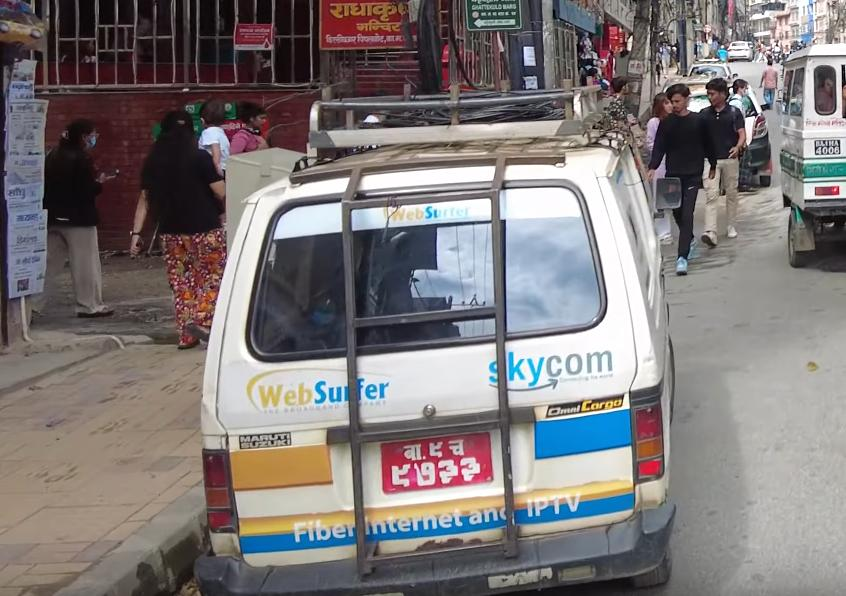tempo: (779, 41, 846, 269)
van: (202, 77, 678, 596)
